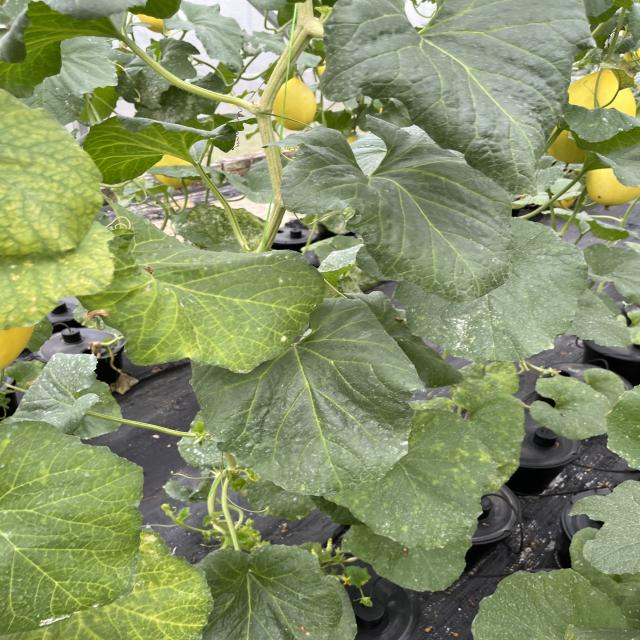CMV: (105, 213, 331, 378)
alternaria leaf blight: (0, 425, 145, 623), (0, 536, 213, 639), (0, 87, 95, 257), (1, 220, 114, 324)
downy mildew: (314, 0, 601, 194), (289, 124, 534, 308)
healthy: (86, 118, 232, 192)
powdery mildew: (195, 299, 410, 491), (341, 382, 548, 552), (394, 222, 569, 358), (459, 559, 640, 640), (200, 537, 341, 640), (0, 0, 92, 102), (574, 473, 640, 584), (556, 280, 640, 361), (162, 0, 252, 73), (14, 353, 98, 431), (576, 98, 640, 161), (592, 391, 640, 466)
